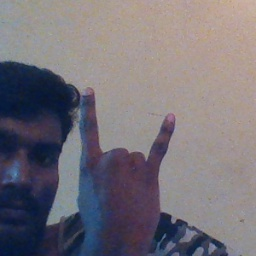V: (73, 83, 180, 249)
